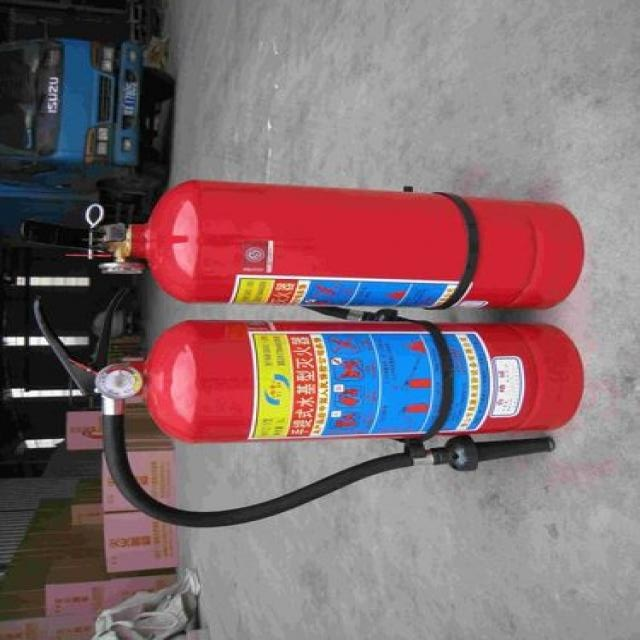fire extinguisher: (17, 174, 598, 531)
